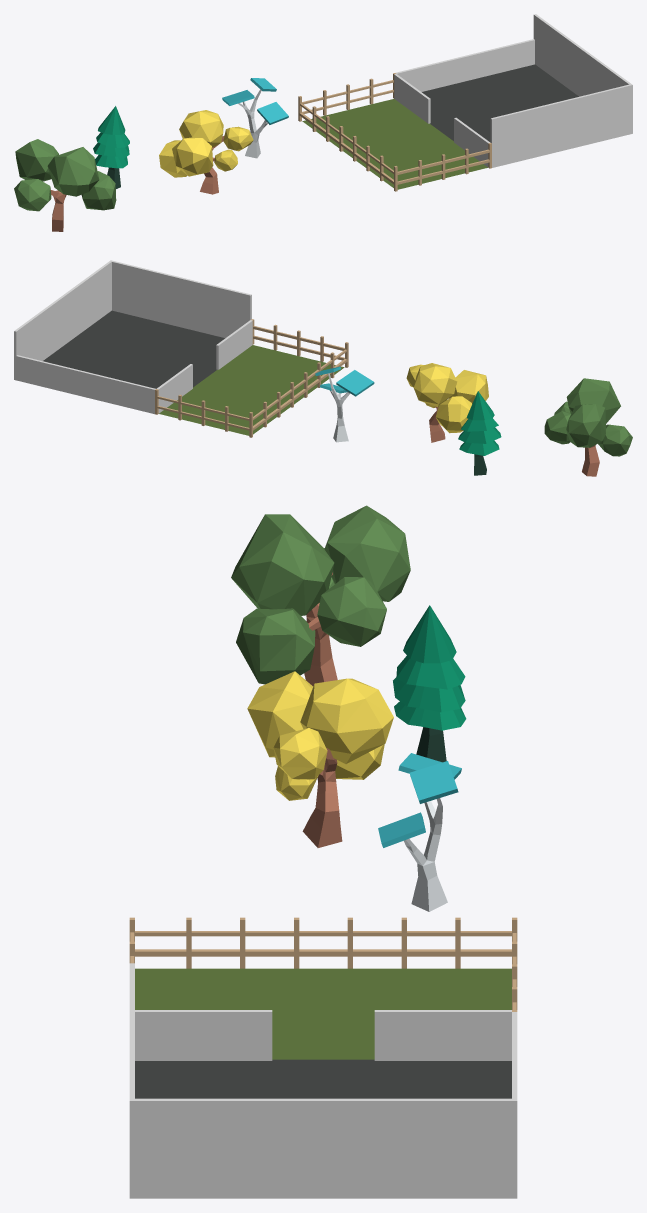
The model's file is Level 1.fbx.
The picture shows the model from 3 angles, top to bottom: view 1: azimuth 30°, elevation 25°; view 2: azimuth 150°, elevation 25°; view 3: azimuth 270°, elevation 25°; orthographic projection. The views are drawn at different scales.
Parts seen in each view (by area): view 1: Cube, Grid.002, Grid, Cube.003, Cube.002, Lifeleaf (daun 1), Lifeleaf (daun 2), Torchflower (daun 3), Torchflower (daun 2), Cube.005, Lifeleaf (daun 3), Lifeleaf (daun 5) (+16 smaller); view 2: Grid, Grid.002, Cube, Cube.003, Cube.002, Lifeleaf (daun 2), Torchflower (daun 2), Lifeleaf (daun 1), Cube.001, Torchflower (daun 1), Cube.005, Torchflower (daun 3) (+14 smaller); view 3: Cube.003, Grid.002, Grid, Lifeleaf (daun 1), Cube.001, Cube.005, Torchflower (daun 2), Lifeleaf (daun 2), Lifeleaf (daun 5), Lifeleaf (daun 4), Torchflower (daun 3), Cube.004 (+12 smaller).
Boxes of the visible parts, <box> form: Cube: <box>490,84,631,167</box>; Grid.002: <box>302,99,487,189</box>; Grid: <box>422,64,578,142</box>; Cube.003: <box>533,14,632,133</box>; Cube.002: <box>395,39,534,91</box>; Lifeleaf (daun 1): <box>47,147,99,196</box>; Lifeleaf (daun 2): <box>15,139,58,181</box>; Torchflower (daun 3): <box>172,136,213,176</box>; Torchflower (daun 2): <box>179,110,223,147</box>; Cube.005: <box>394,74,430,123</box>; Lifeleaf (daun 3): <box>14,179,51,211</box>; Lifeleaf (daun 5): <box>81,171,116,210</box>; Grid: <box>43,310,224,388</box>; Grid.002: <box>159,345,344,435</box>; Cube: <box>112,261,251,338</box>; Cube.003: <box>14,260,112,379</box>; Cube.002: <box>15,355,155,414</box>; Lifeleaf (daun 2): <box>566,404,605,447</box>; Torchflower (daun 2): <box>413,363,457,407</box>; Lifeleaf (daun 1): <box>566,378,620,423</box>; Cube.001: <box>216,320,252,369</box>; Torchflower (daun 1): <box>436,396,472,433</box>; Cube.005: <box>156,364,192,413</box>; Torchflower (daun 3): <box>449,370,488,403</box>; Cube.003: <box>129,1098,517,1198</box>; Grid.002: <box>135,968,511,1059</box>; Grid: <box>135,1059,511,1098</box>; Lifeleaf (daun 1): <box>231,514,334,615</box>; Cube.001: <box>135,1010,272,1060</box>; Cube.005: <box>374,1010,511,1060</box>; Torchflower (daun 2): <box>300,678,393,763</box>; Lifeleaf (daun 2): <box>324,505,410,601</box>; Lifeleaf (daun 5): <box>236,608,315,684</box>; Lifeleaf (daun 4): <box>317,577,386,646</box>; Torchflower (daun 3): <box>247,671,313,757</box>; Cube.004: <box>135,949,511,956</box>.
Bounding box in the file's own units: 4872 × 718 × 1440.
